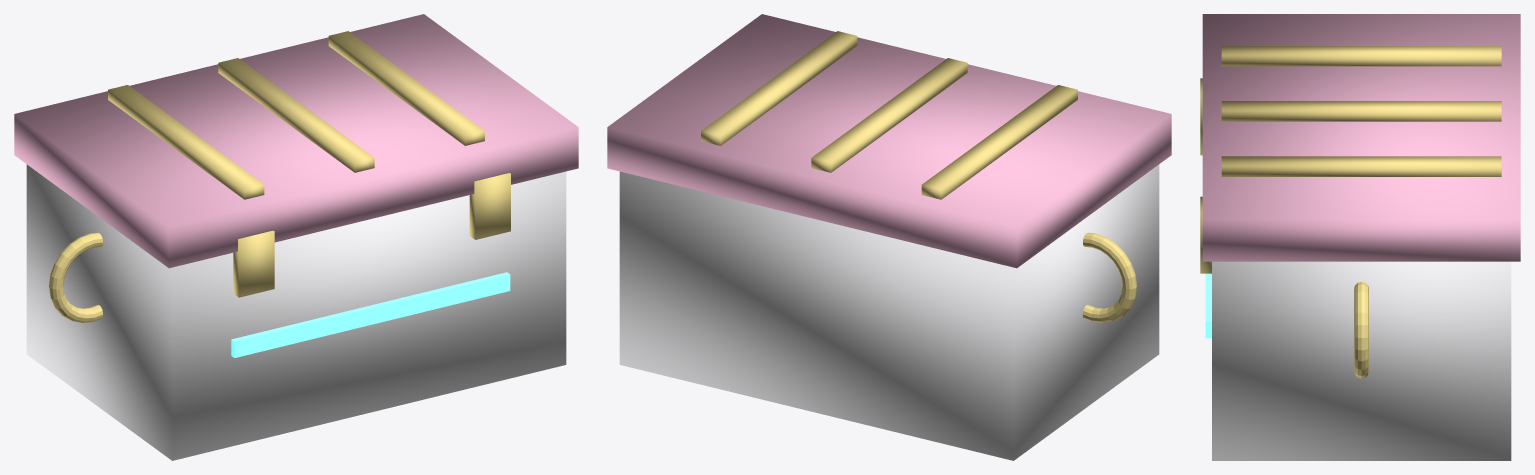
Rendered from Heavy_Munitions_Ammo_Crate.glb.
3 renders of one model, left to right at view 1: azimuth 30°, elevation 25°; view 2: azimuth 150°, elevation 25°; view 3: azimuth 270°, elevation 25°, orthographic. The views are drawn at different scales.
Parts seen in each view (by area): view 1: GEO-ammo_box_body, GEO-ammo_lid, GEO-ammo_neon_label, GEO-ammo_rib_0.0, GEO-ammo_rib_0.14, GEO-ammo_rib_-0.14, GEO-ammo_latch_-0.15, GEO-ammo_latch_0.15, GEO-ammo_handle_-1; view 2: GEO-ammo_box_body, GEO-ammo_lid, GEO-ammo_rib_0.0, GEO-ammo_rib_0.14, GEO-ammo_rib_-0.14, GEO-ammo_handle_-1; view 3: GEO-ammo_lid, GEO-ammo_box_body, GEO-ammo_rib_0.0, GEO-ammo_rib_0.14, GEO-ammo_rib_-0.14, GEO-ammo_handle_1, GEO-ammo_neon_label, GEO-ammo_latch_0.15.
Boxes of the visible parts, bbox=[...] form: GEO-ammo_box_body: bbox=[26, 164, 566, 460]; GEO-ammo_lid: bbox=[14, 14, 578, 268]; GEO-ammo_neon_label: bbox=[231, 272, 510, 357]; GEO-ammo_rib_0.0: bbox=[218, 58, 374, 172]; GEO-ammo_rib_0.14: bbox=[328, 31, 484, 145]; GEO-ammo_rib_-0.14: bbox=[108, 85, 264, 199]; GEO-ammo_latch_-0.15: bbox=[233, 230, 274, 297]; GEO-ammo_latch_0.15: bbox=[469, 173, 510, 239]; GEO-ammo_handle_-1: bbox=[49, 232, 102, 322]; GEO-ammo_box_body: bbox=[619, 164, 1159, 460]; GEO-ammo_lid: bbox=[607, 14, 1171, 268]; GEO-ammo_rib_0.0: bbox=[811, 58, 967, 172]; GEO-ammo_rib_0.14: bbox=[701, 31, 857, 145]; GEO-ammo_rib_-0.14: bbox=[921, 85, 1077, 199]; GEO-ammo_handle_-1: bbox=[1083, 232, 1136, 322]; GEO-ammo_lid: bbox=[1202, 14, 1520, 261]; GEO-ammo_box_body: bbox=[1212, 261, 1511, 460]; GEO-ammo_rib_0.0: bbox=[1221, 101, 1501, 121]; GEO-ammo_rib_0.14: bbox=[1221, 156, 1501, 176]; GEO-ammo_rib_-0.14: bbox=[1221, 46, 1501, 66]; GEO-ammo_handle_1: bbox=[1354, 281, 1368, 378]; GEO-ammo_neon_label: bbox=[1205, 273, 1211, 338]; GEO-ammo_latch_0.15: bbox=[1200, 196, 1211, 273].
Bounding box in the file's own units: 0.626 × 0.3025 × 0.3425.
